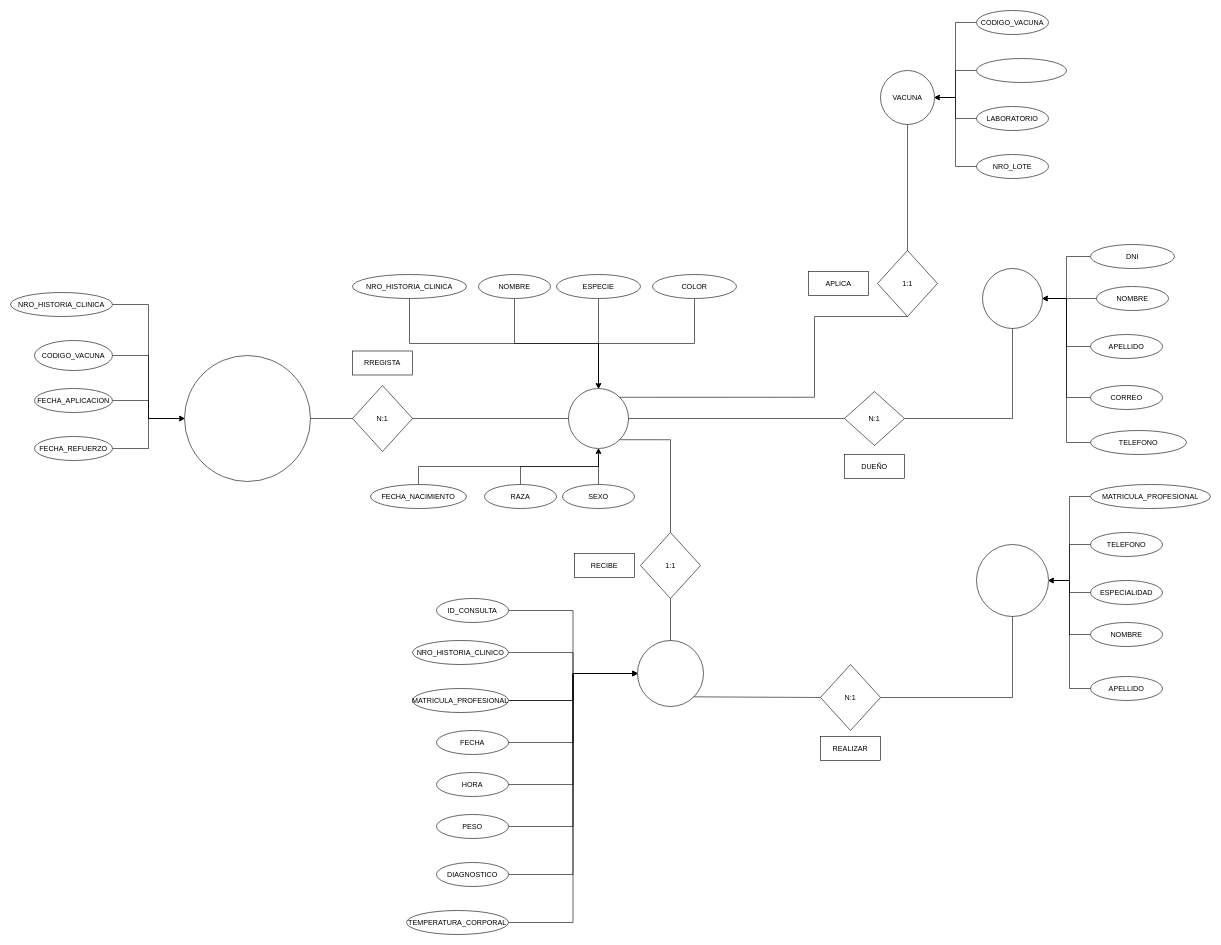
Image size: 1221x945. Some labels were removed from this diagram. The shapes that lost their labels are listed below. From the top down, each one's box as (x1, y1, x2, y2) in pixels, then its label:
(976, 58, 1066, 82): NOMBRE_COMERCIAL
(982, 268, 1042, 328): TITULAR
(184, 355, 310, 482): REGISTRO_APLICACION_VACUNA
(568, 388, 628, 448): MASCOTA
(976, 544, 1048, 616): VETERINARIO
(637, 640, 704, 706): CONSULTA
